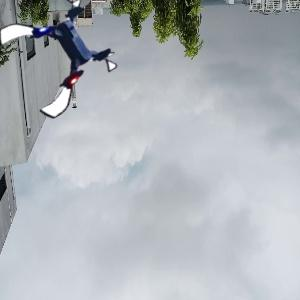drone: (6, 3, 114, 111)
